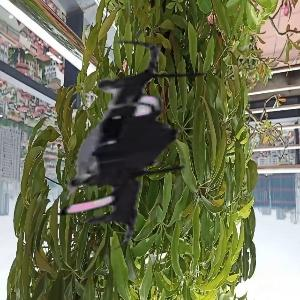drone: (13, 35, 242, 264)
